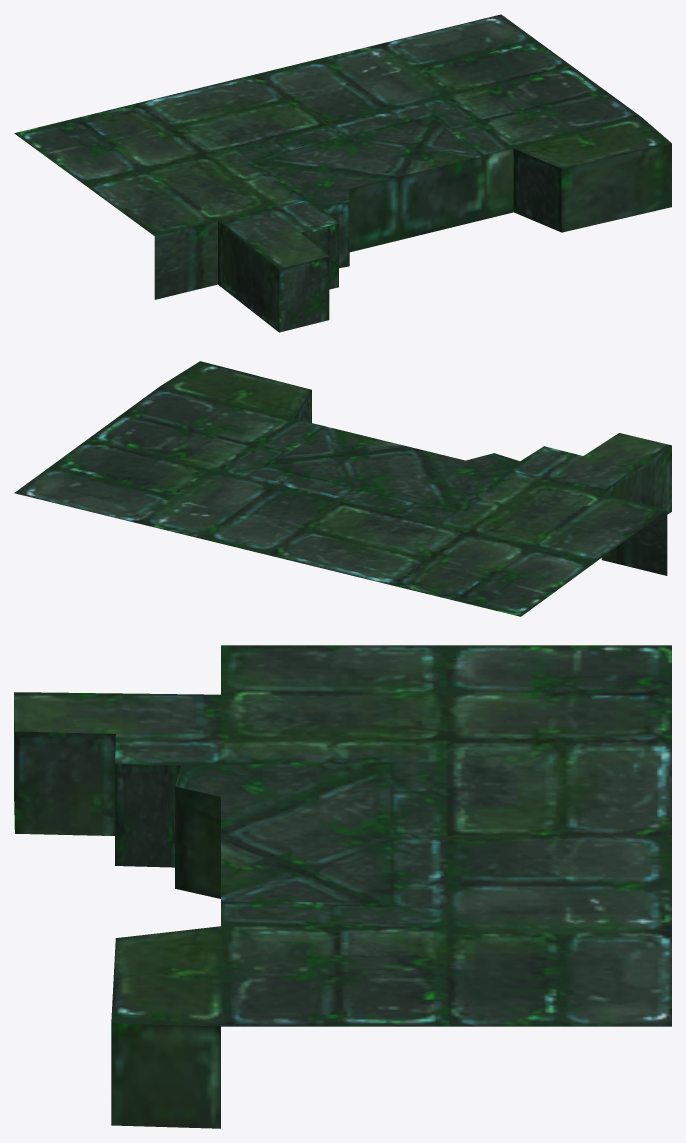
Rendered from stemple_floor_straight_noshadow_03.fbx.
The picture shows the model from 3 angles, top to bottom: view 1: azimuth 30°, elevation 25°; view 2: azimuth 150°, elevation 25°; view 3: azimuth 270°, elevation 25°; orthographic projection. The views are drawn at different scales.
Visible parts, largest first — view 1: obj0.437; view 2: obj0.437; view 3: obj0.437.
Part boxes in pixels (x1=…): obj0.437: x1=14, y1=14, x2=671, y2=332; obj0.437: x1=14, y1=361, x2=671, y2=616; obj0.437: x1=14, y1=645, x2=671, y2=1128.
Size of the model in its own units: 4 by 0.5 by 2.92.
